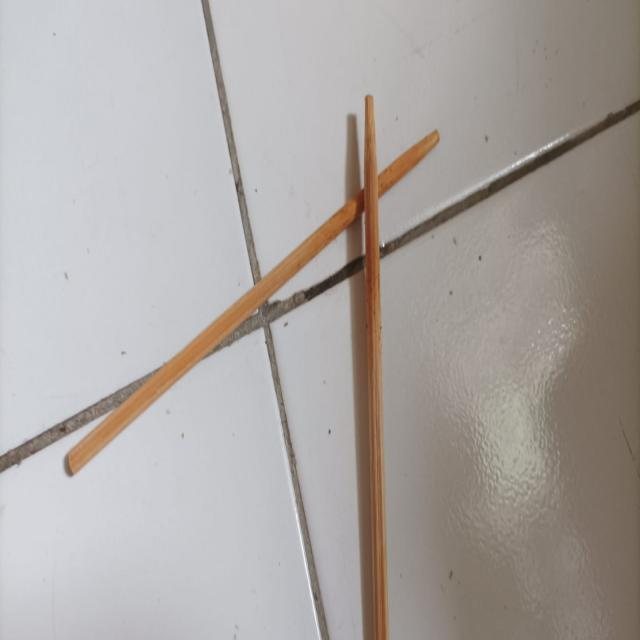Organik: (67, 96, 438, 638)
